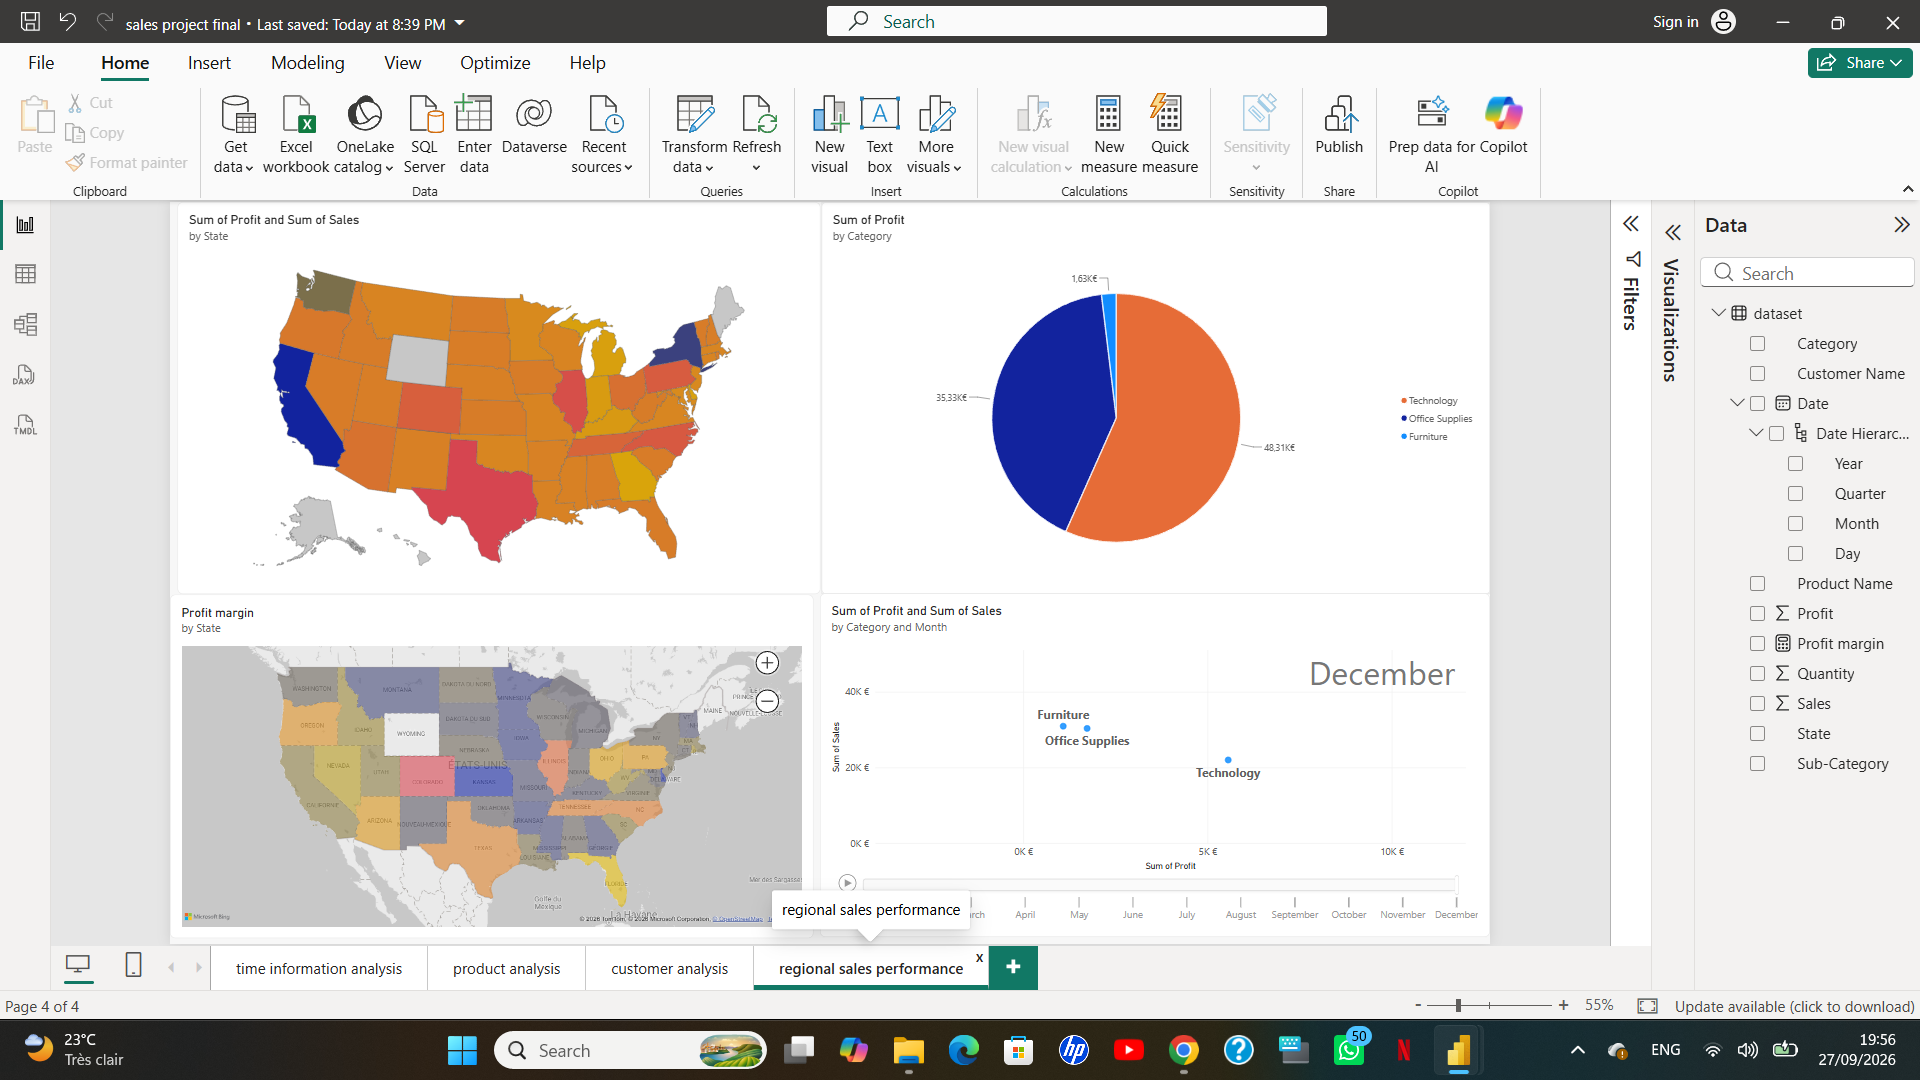

Layout of this report page (visuals, bound fields, positions):
{"tool":"powerbi","page":{"name":"regional sales performance","canvas":[1920,1080],"ordinal":3},"visuals":[{"type":"shapeMap","fields":{"Category":["dataset.State"]},"box":[10.9,0,935.6,570],"z":0},{"type":"pieChart","fields":{"Category":["dataset.Category"],"Y":["Sum(dataset.Profit)"]},"box":[946.5,0,973.6,570],"z":1},{"type":"filledMap","fields":{"Category":["dataset.State"]},"box":[0,570,936,500],"z":2},{"type":"scatterChart","fields":{"Category":["dataset.Category"],"Play":["dataset.Date.Variation.Date Hierarchy.Month"],"X":["Sum(dataset.Profit)"],"Y":["Sum(dataset.Sales)"]},"box":[945.5,569.1,974,500],"z":3}]}

Visuals, with their boxes on the page's 1920x1080 design canvas (x1, y1, x2, y2). These are canvas units, not pixel positions in the 1920x1080 screenshot, which may show the page scaled, cropped or inside an application window:
shapeMap - dataset.State: (x1=11, y1=0, x2=946, y2=570)
pieChart - dataset.Category x Sum(dataset.Profit): (x1=946, y1=0, x2=1920, y2=570)
filledMap - dataset.State: (x1=0, y1=570, x2=936, y2=1070)
scatterChart - dataset.Category x dataset.Date.Variation.Date Hierarchy.Month: (x1=946, y1=569, x2=1920, y2=1069)
